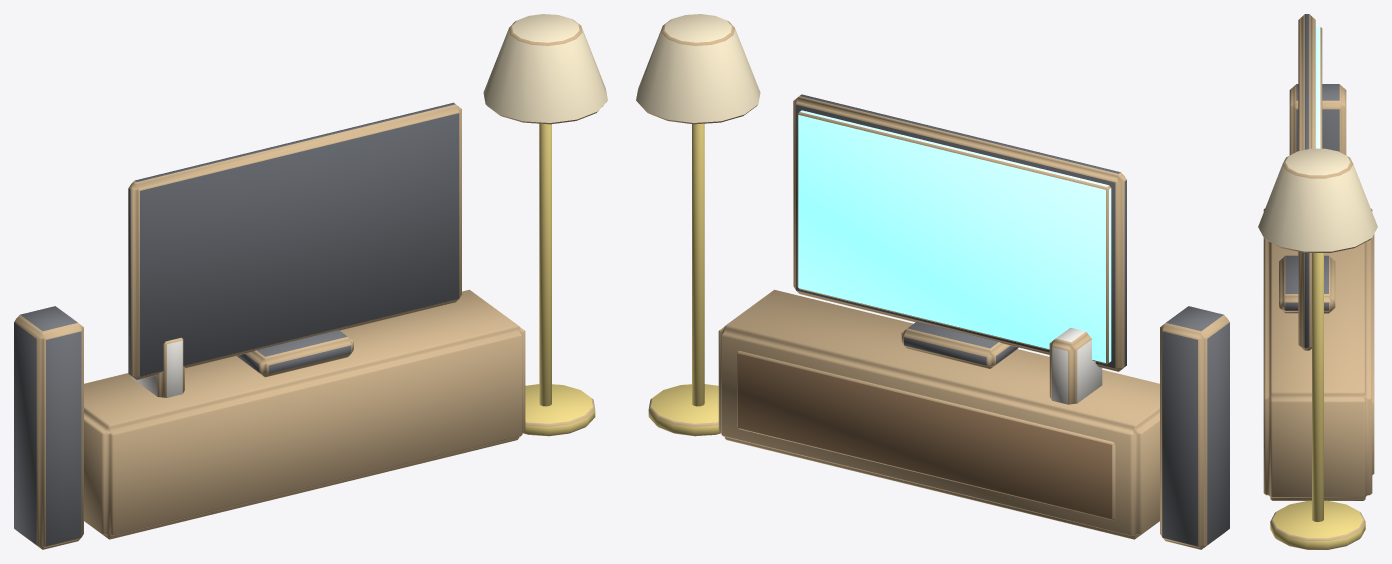
Rendered from OW_HomeMediaAndConsole.fbx.
The picture shows the model from 3 angles, left to right: view 1: azimuth 30°, elevation 25°; view 2: azimuth 150°, elevation 25°; view 3: azimuth 270°, elevation 25°; orthographic projection. The views are drawn at different scales.
Visible parts, largest first — view 1: MediaAndConsole; view 2: MediaAndConsole; view 3: MediaAndConsole.
Part boxes in pixels (x1,y1,x2,y2): MediaAndConsole: [14, 14, 607, 549]; MediaAndConsole: [636, 14, 1229, 549]; MediaAndConsole: [1258, 14, 1377, 549].
Size of the model in its own units: 291 by 188 by 55.33.
